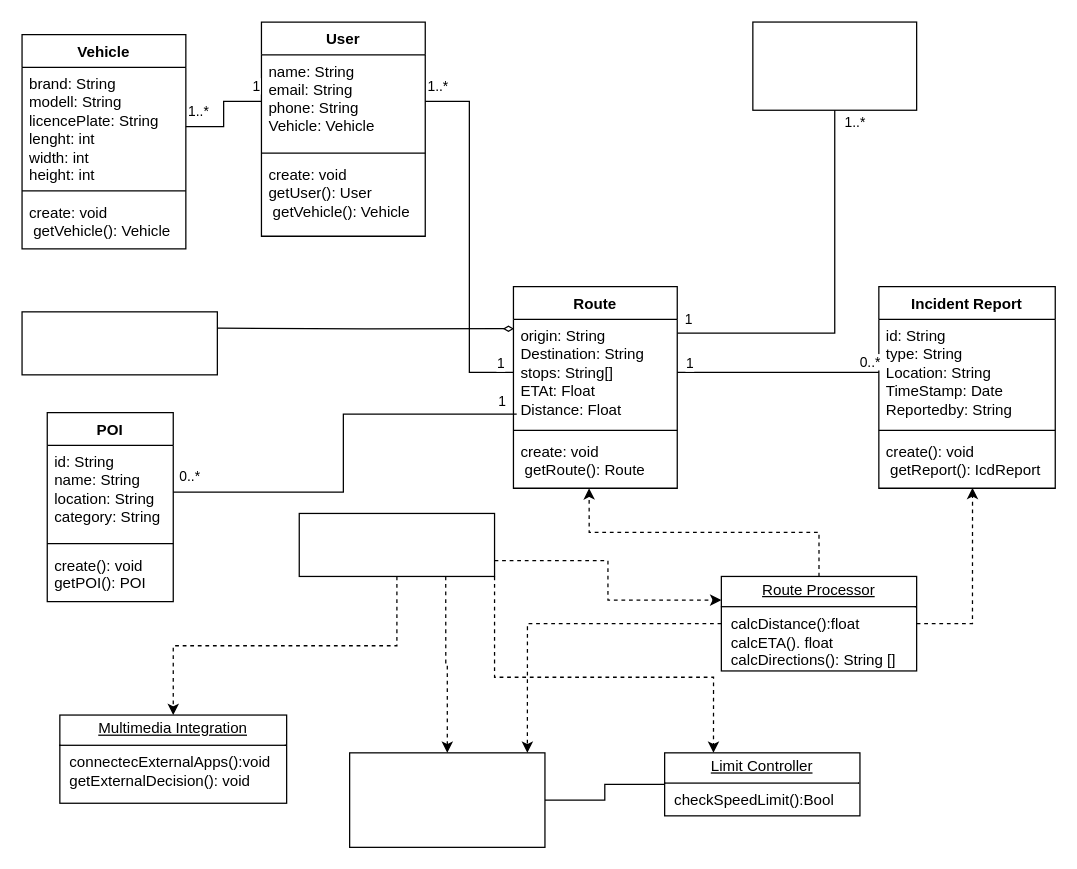
This 1077x869 diagram has some shape labels left out. Each missing label, with the centre of its shape:
GPS getLocation(): String: the point at 119,343
Navigation Controller getNextDiretion(): String[] checkDirections(): void: the point at 446,799
Speed Limit Zone Location: String MaxSpeed: int: the point at 834,65
System: the point at 396,544
